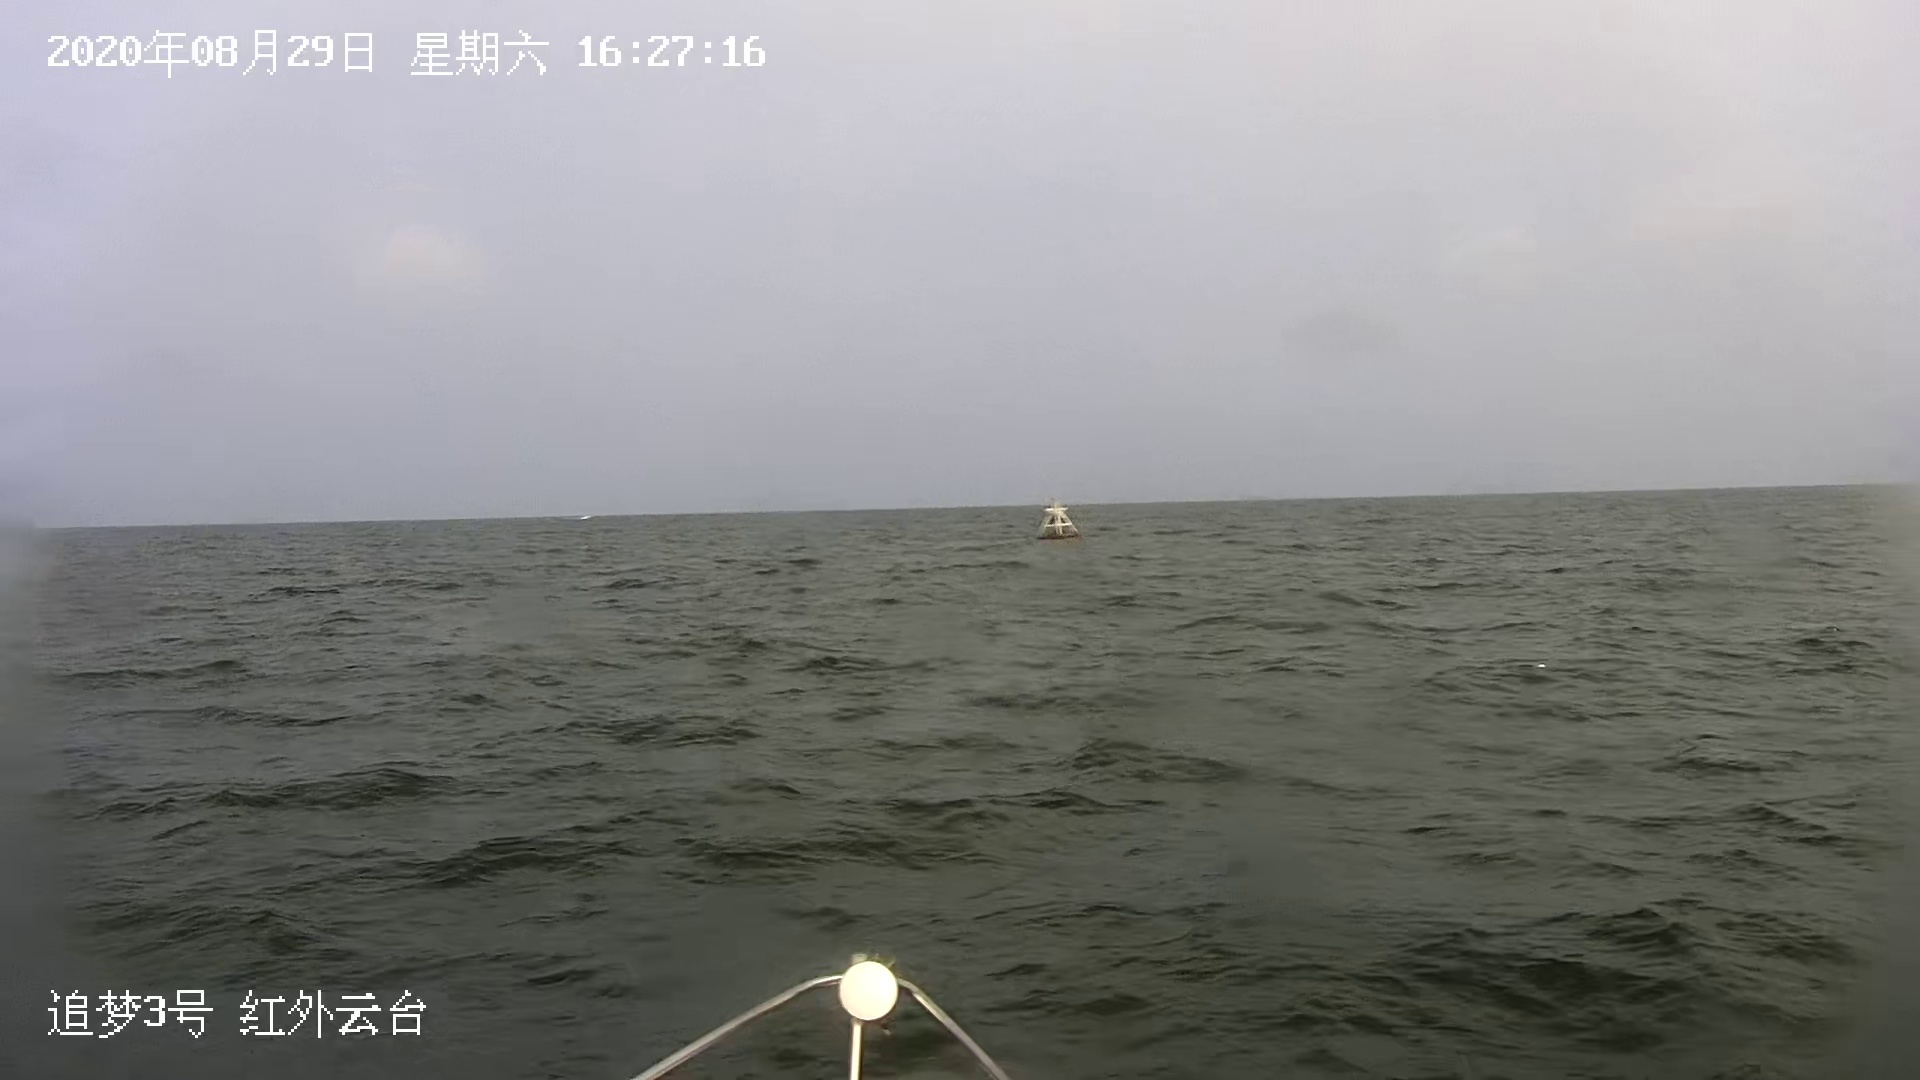barrier: (1029, 495, 1085, 549)
